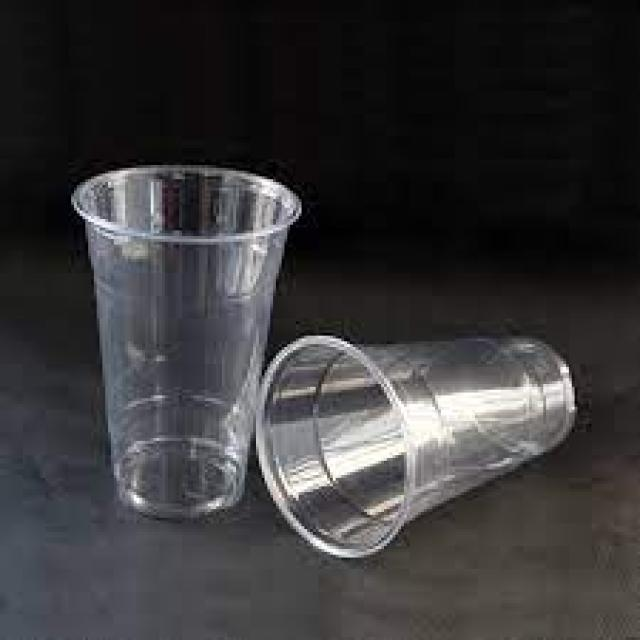plastic: (72, 171, 300, 518), (256, 335, 575, 557)
